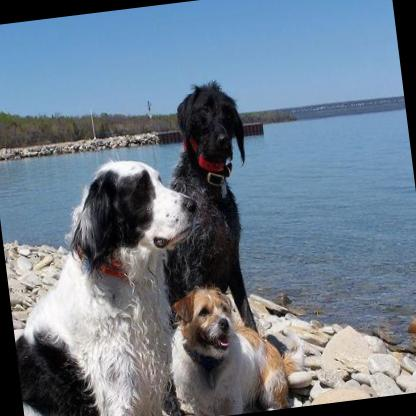English_setter: (0, 146, 222, 416)
